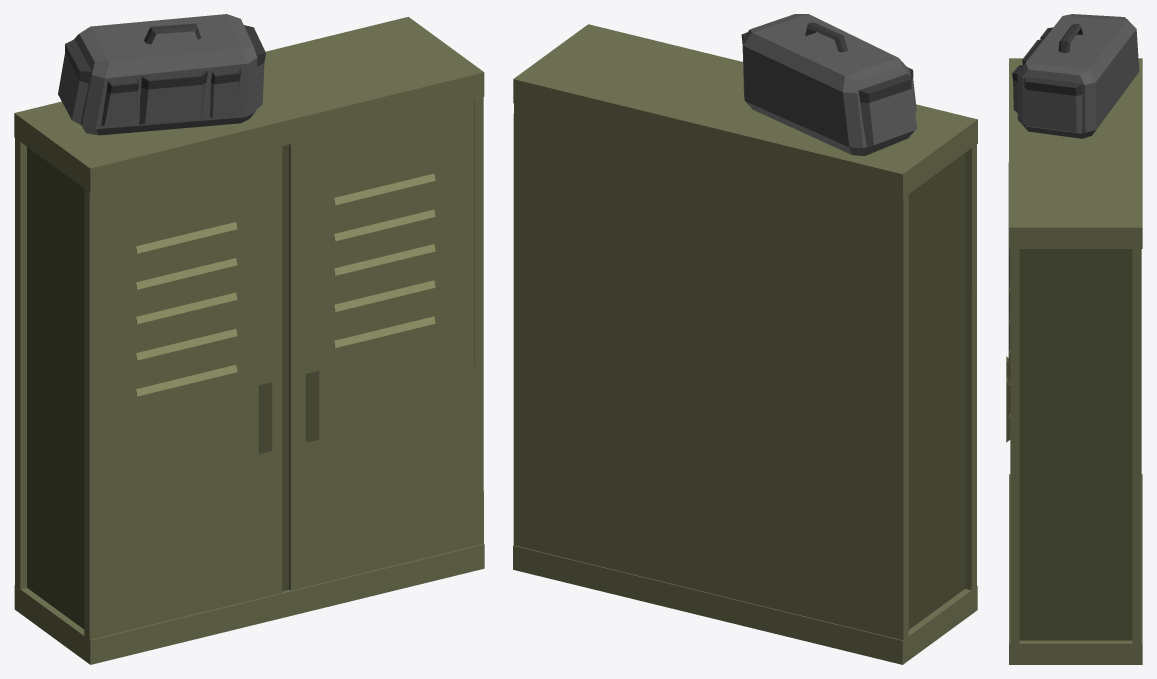
Rendered from GunLocker2.glb.
3 renders of one model, left to right at view 1: azimuth 30°, elevation 25°; view 2: azimuth 150°, elevation 25°; view 3: azimuth 270°, elevation 25°, orthographic. The views are drawn at different scales.
Visible parts, largest first — view 1: GunLockerClosed; view 2: GunLockerClosed; view 3: GunLockerClosed.
Boxes of the visible parts, x1=… form: GunLockerClosed: x1=14, y1=14, x2=484, y2=664; GunLockerClosed: x1=513, y1=14, x2=977, y2=664; GunLockerClosed: x1=1006, y1=14, x2=1142, y2=664.
Size of the model in its own units: 1.74 by 2.46 by 0.5923.
1 material, 1 textured.
